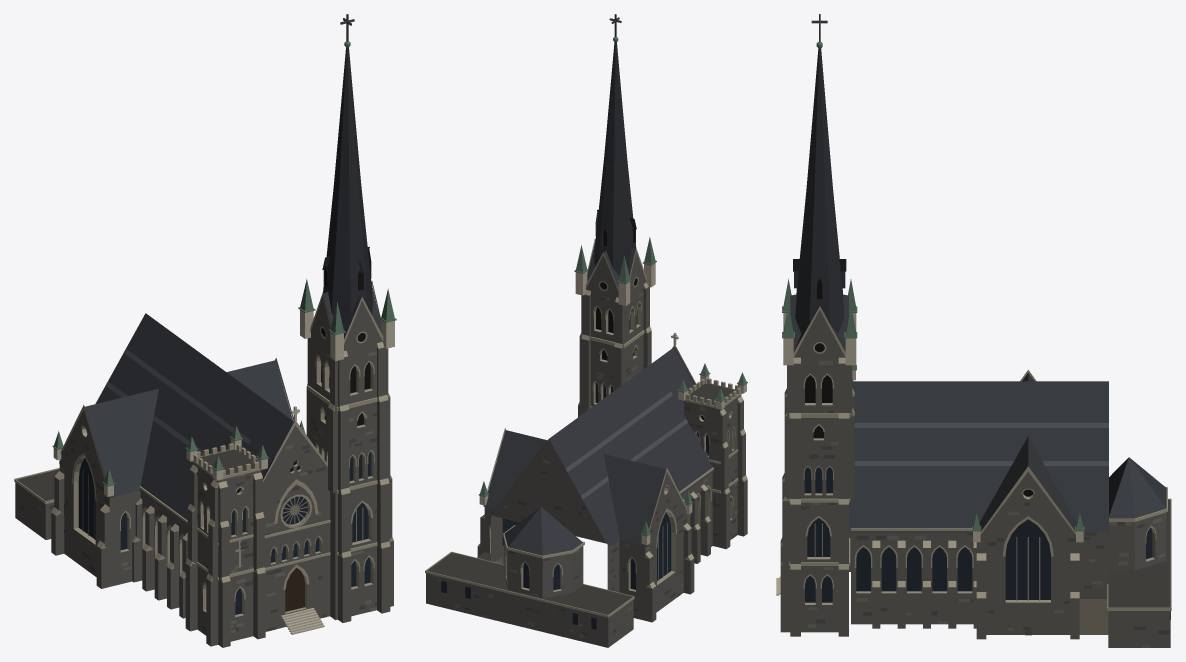
Rendered from st-andrews-cathedral.glb.
The picture shows the model from 3 angles, left to right: view 1: azimuth 30°, elevation 25°; view 2: azimuth 150°, elevation 25°; view 3: azimuth 270°, elevation 25°; orthographic projection. The views are drawn at different scales.
Visible parts, largest first — view 1: st_granite, st_slate, st_stone, st_spire, st_glass, st_pale, st_copper, st_roof, st_granite2, st_slate2, st_granite3, st_shadow (+2 smaller); view 2: st_granite, st_slate, st_stone, st_spire, st_roof, st_glass, st_pale, st_copper, st_slate2, st_granite2, st_granite3, st_shadow; view 3: st_granite, st_slate, st_glass, st_spire, st_stone, st_roof, st_slate2, st_copper, st_pale, st_frame, st_granite2, st_granite3 (+1 smaller).
Part boxes in pixels (<box>): st_granite: <box>15,294,393,647</box>; st_slate: <box>84,282,381,525</box>; st_stone: <box>14,280,393,617</box>; st_spire: <box>321,47,372,338</box>; st_glass: <box>78,451,371,614</box>; st_pale: <box>53,310,394,634</box>; st_copper: <box>52,41,396,486</box>; st_roof: <box>17,449,254,500</box>; st_granite2: <box>20,412,376,631</box>; st_slate2: <box>105,349,250,455</box>; st_granite3: <box>38,351,376,632</box>; st_shadow: <box>236,266,370,493</box>; st_granite: <box>426,249,747,647</box>; st_slate: <box>483,240,714,555</box>; st_stone: <box>425,238,747,617</box>; st_spire: <box>594,42,637,286</box>; st_roof: <box>427,383,736,614</box>; st_glass: <box>441,382,708,629</box>; st_pale: <box>479,263,746,544</box>; st_copper: <box>478,37,747,536</box>; st_slate2: <box>565,392,687,499</box>; st_granite2: <box>463,288,737,635</box>; st_granite3: <box>432,292,737,638</box>; st_shadow: <box>596,226,704,420</box>; st_granite: <box>780,310,1170,647</box>; st_slate: <box>790,294,1166,532</box>; st_glass: <box>804,467,1170,619</box>; st_spire: <box>793,48,846,348</box>; st_stone: <box>780,306,1171,610</box>; st_roof: <box>1079,500,1170,607</box>; st_slate2: <box>854,423,1108,465</box>; st_copper: <box>782,42,1084,531</box>; st_pale: <box>776,313,1083,595</box>; st_frame: <box>1079,599,1108,634</box>; st_granite2: <box>801,411,1169,635</box>; st_granite3: <box>801,360,1165,647</box>.
Bounding box in the file's own units: 28.35 × 70.71 × 41.78.
